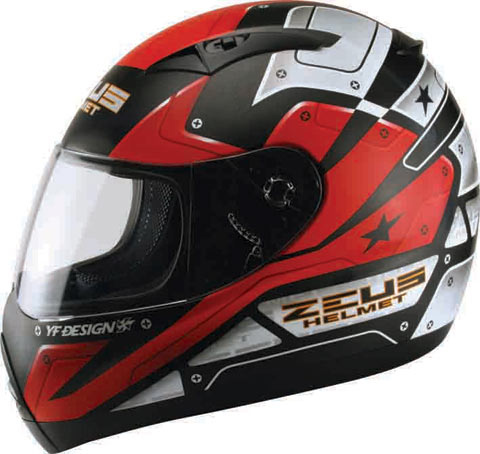helmet: (20, 17, 472, 396)
